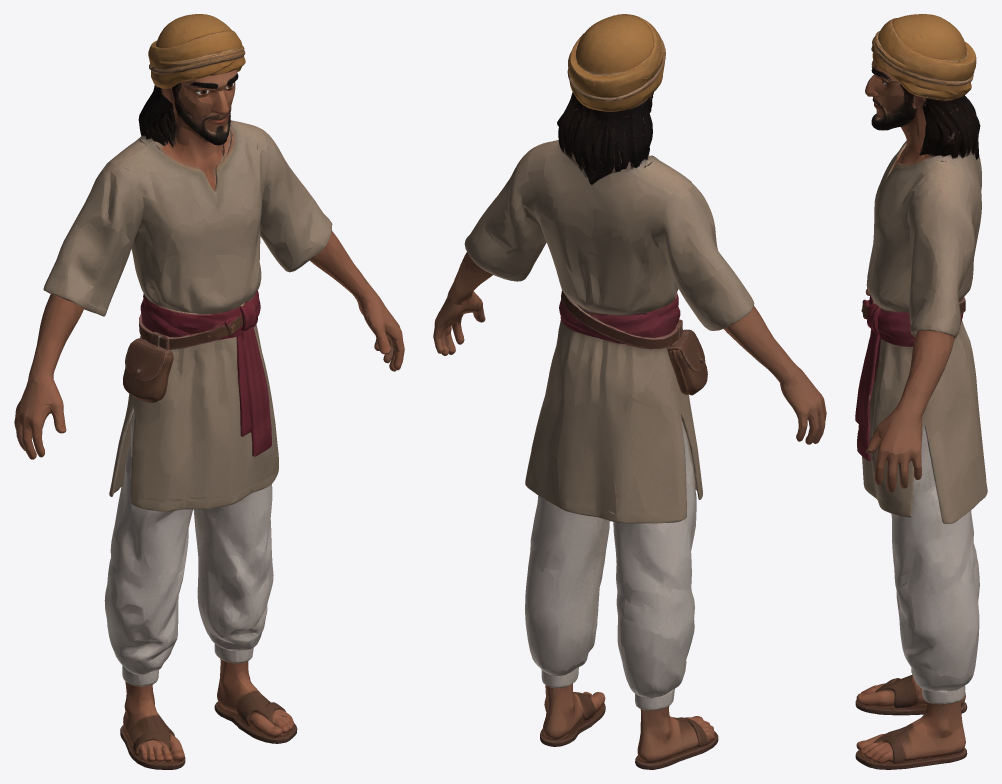
File: candA.glb
The picture shows the model from 3 angles, left to right: view 1: azimuth 30°, elevation 25°; view 2: azimuth 150°, elevation 25°; view 3: azimuth 270°, elevation 25°; orthographic projection.
Parts seen in each view (by area): view 1: mesh_node; view 2: mesh_node; view 3: mesh_node.
Boxes of the visible parts, x1,y1,x2,y2 form: mesh_node: [14, 14, 404, 769]; mesh_node: [433, 14, 826, 769]; mesh_node: [855, 14, 987, 769].
Bounding box in the file's own units: 1.06 × 1.9 × 0.3191.
Materials: 1 (1 with a texture image).
